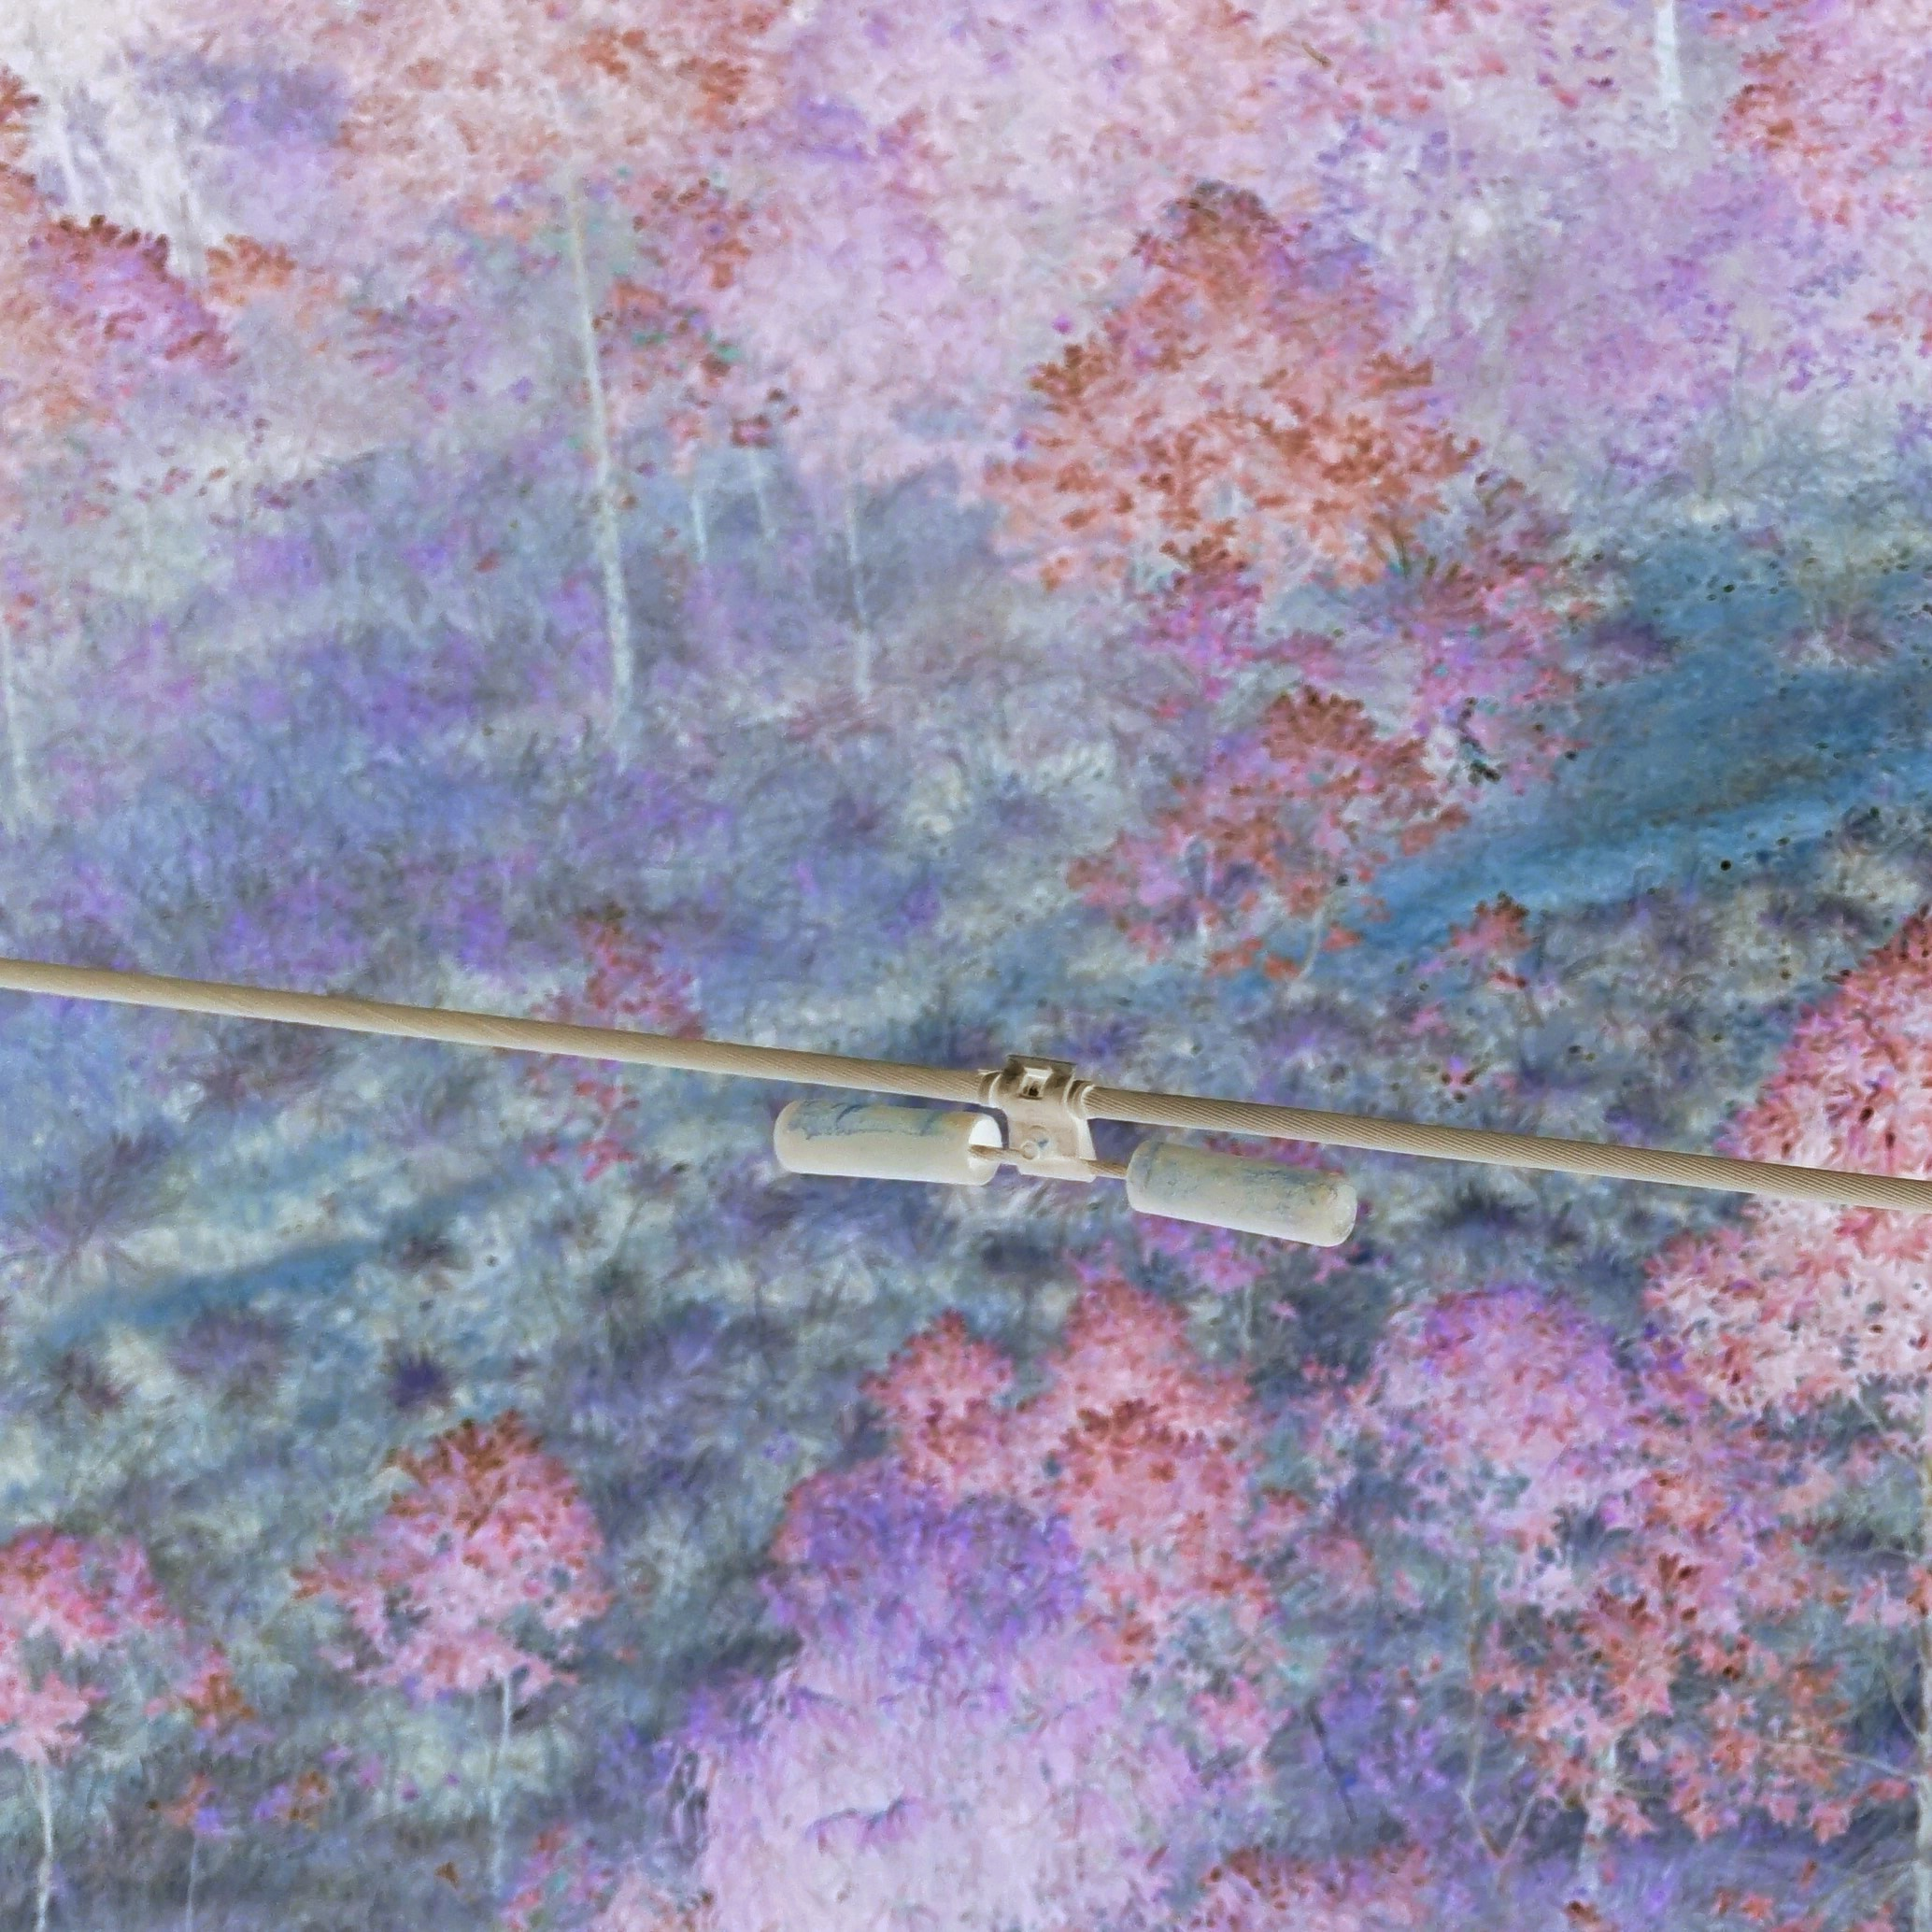Shockproof hammer: (736, 1026, 1378, 1263)
